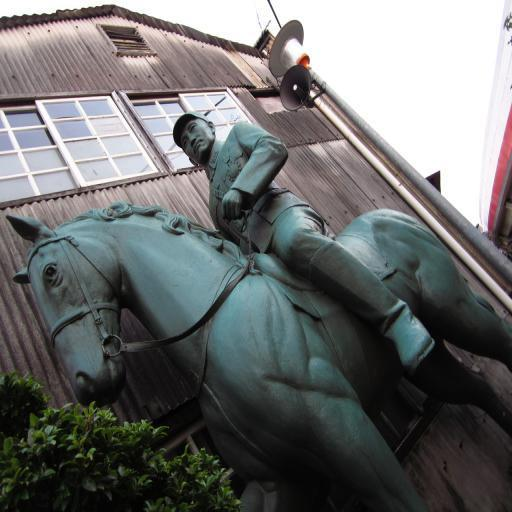horse: (6, 198, 512, 512)
